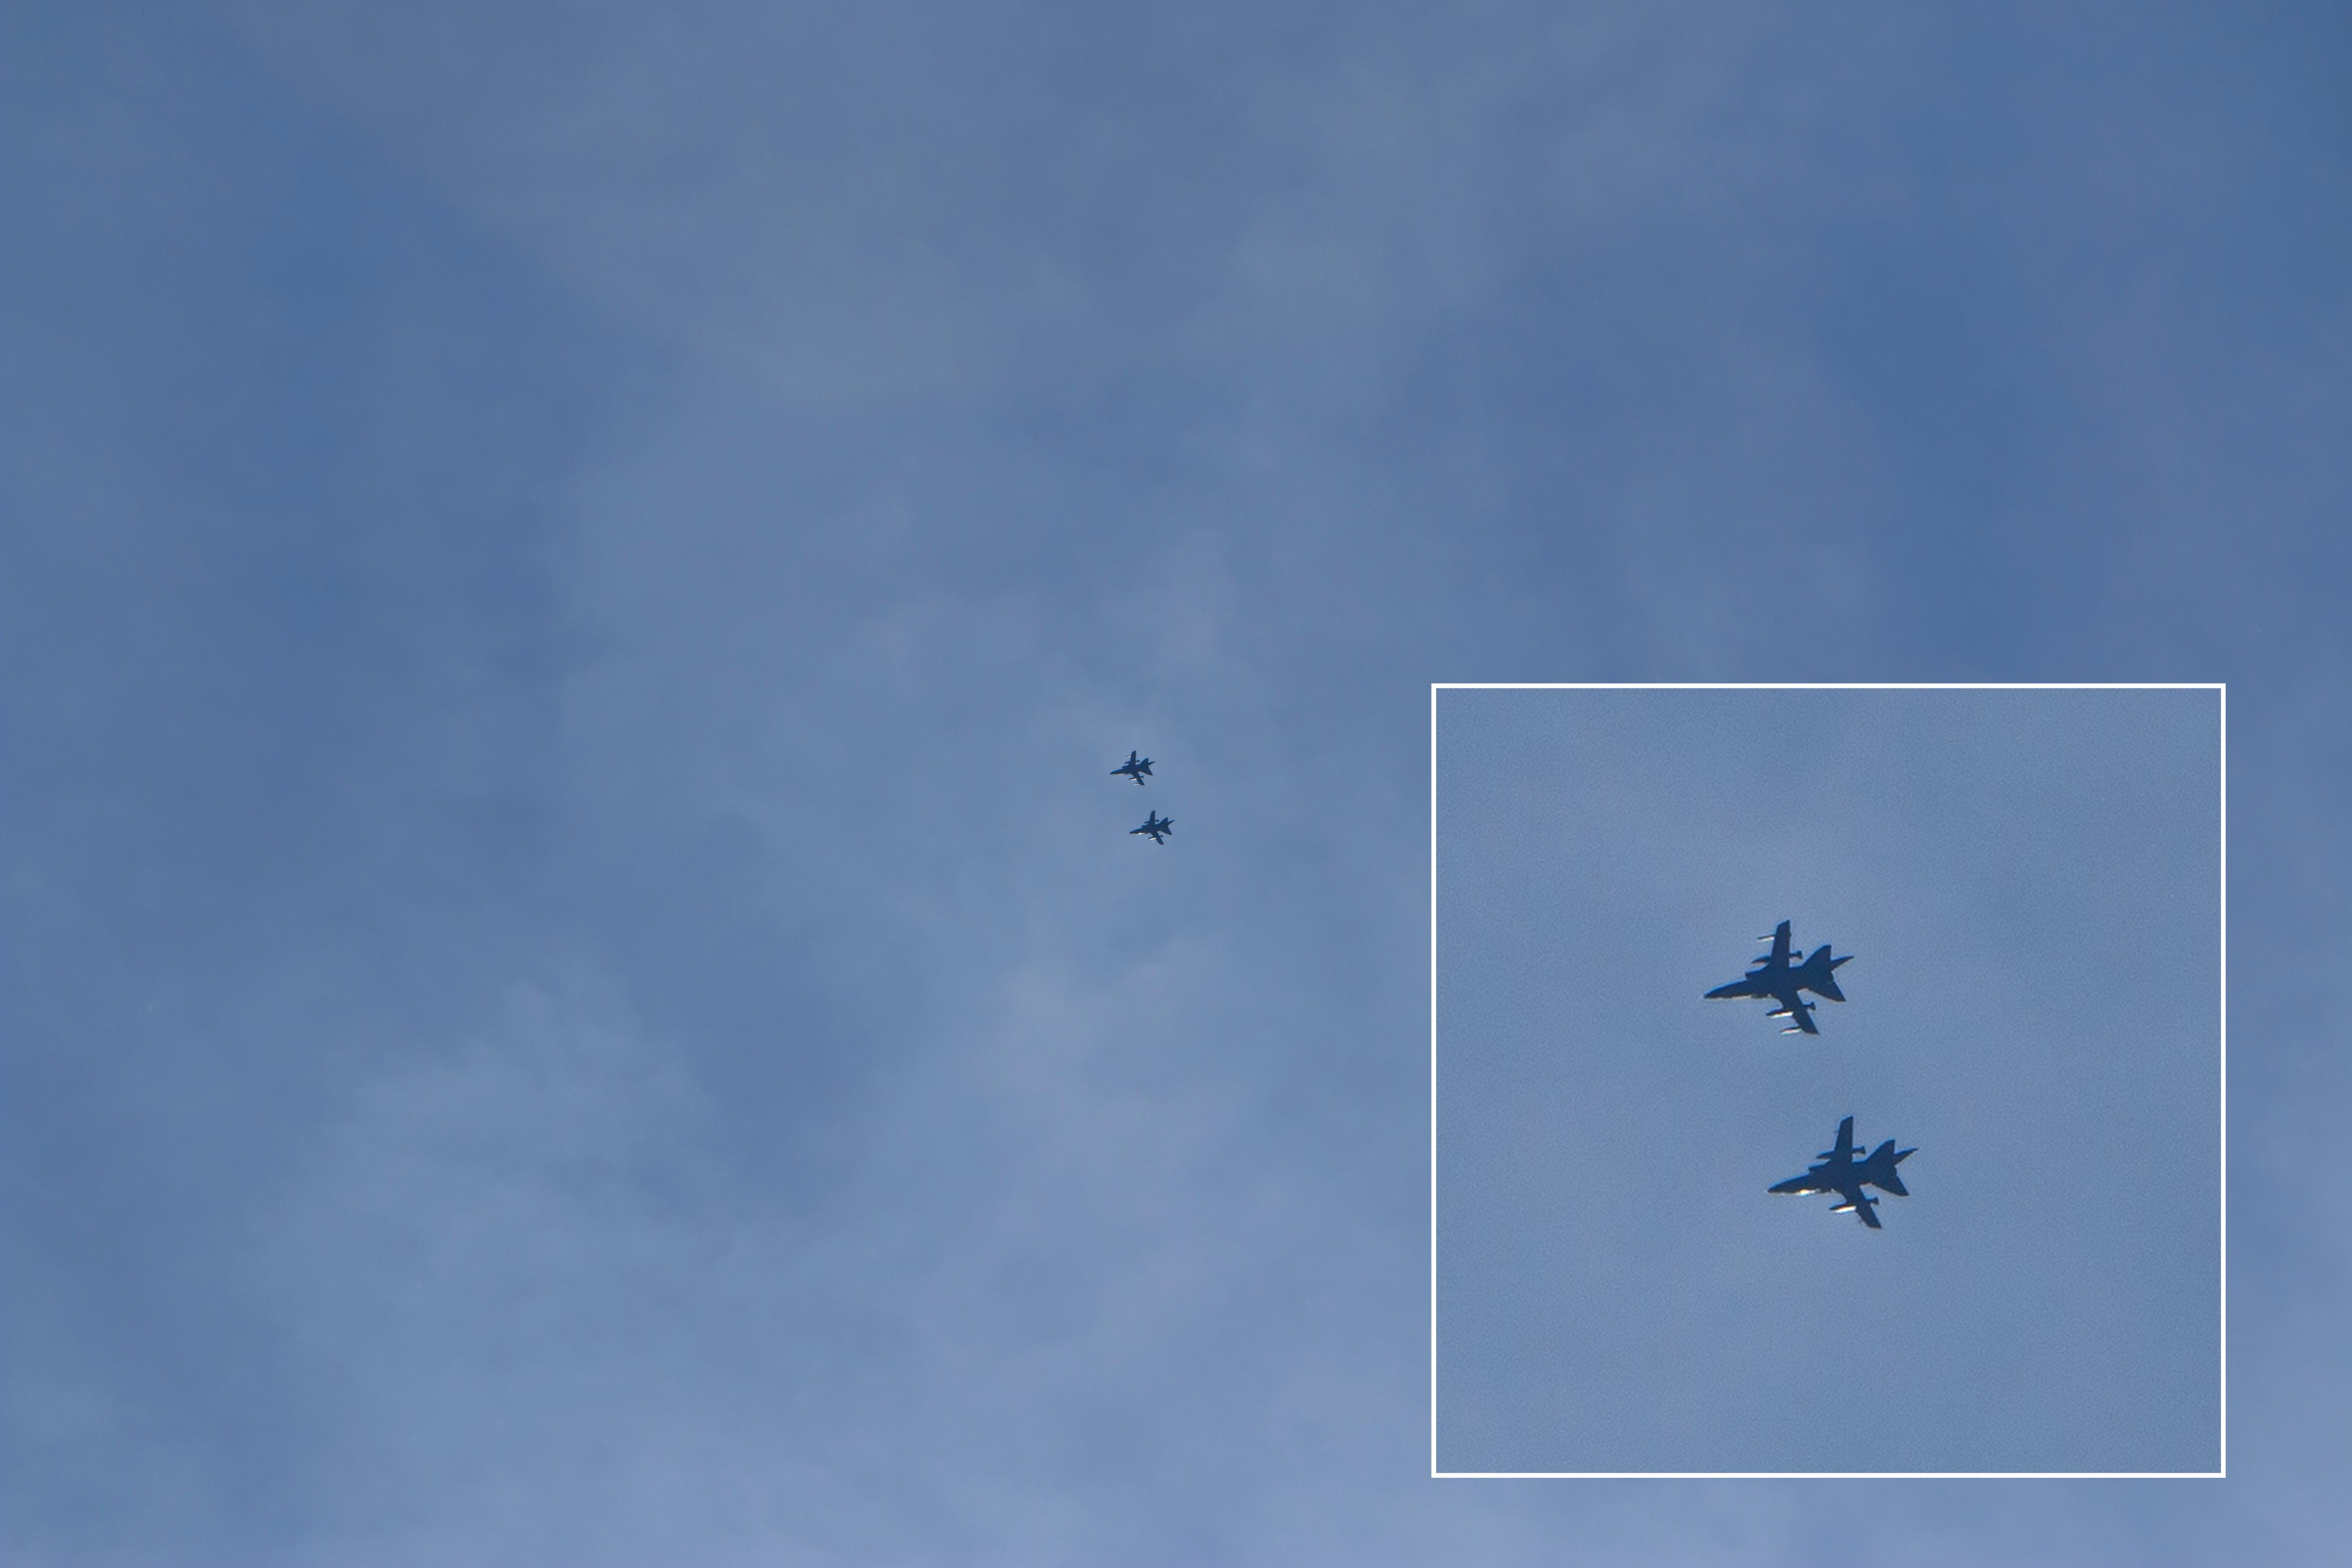Tornado: (1764, 1115, 1920, 1228), (1701, 920, 1853, 1036), (1109, 749, 1157, 786), (1129, 810, 1176, 845)
